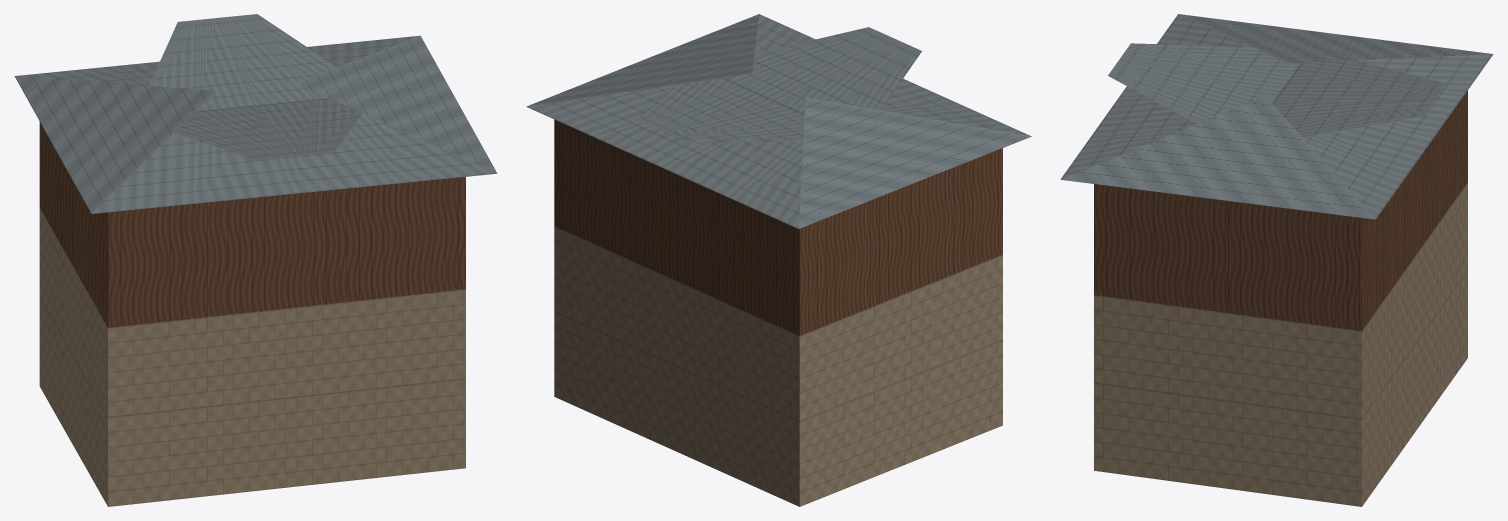
The model's file is bld_c19_-25_656.gltf.
The picture shows the model from 3 angles, left to right: view 1: azimuth 30°, elevation 25°; view 2: azimuth 150°, elevation 25°; view 3: azimuth 270°, elevation 25°; orthographic projection. The views are drawn at different scales.
Parts seen in each view (by area): view 1: bld_c19_-25_656; view 2: bld_c19_-25_656; view 3: bld_c19_-25_656.
Part boxes in pixels (x1,y1,x2,y2): bld_c19_-25_656: (14, 14, 497, 506); bld_c19_-25_656: (526, 14, 1031, 506); bld_c19_-25_656: (1060, 14, 1493, 506).
Size of the model in its own units: 11.85 by 9 by 10.54.
Materials: 3 (3 with a texture image).
